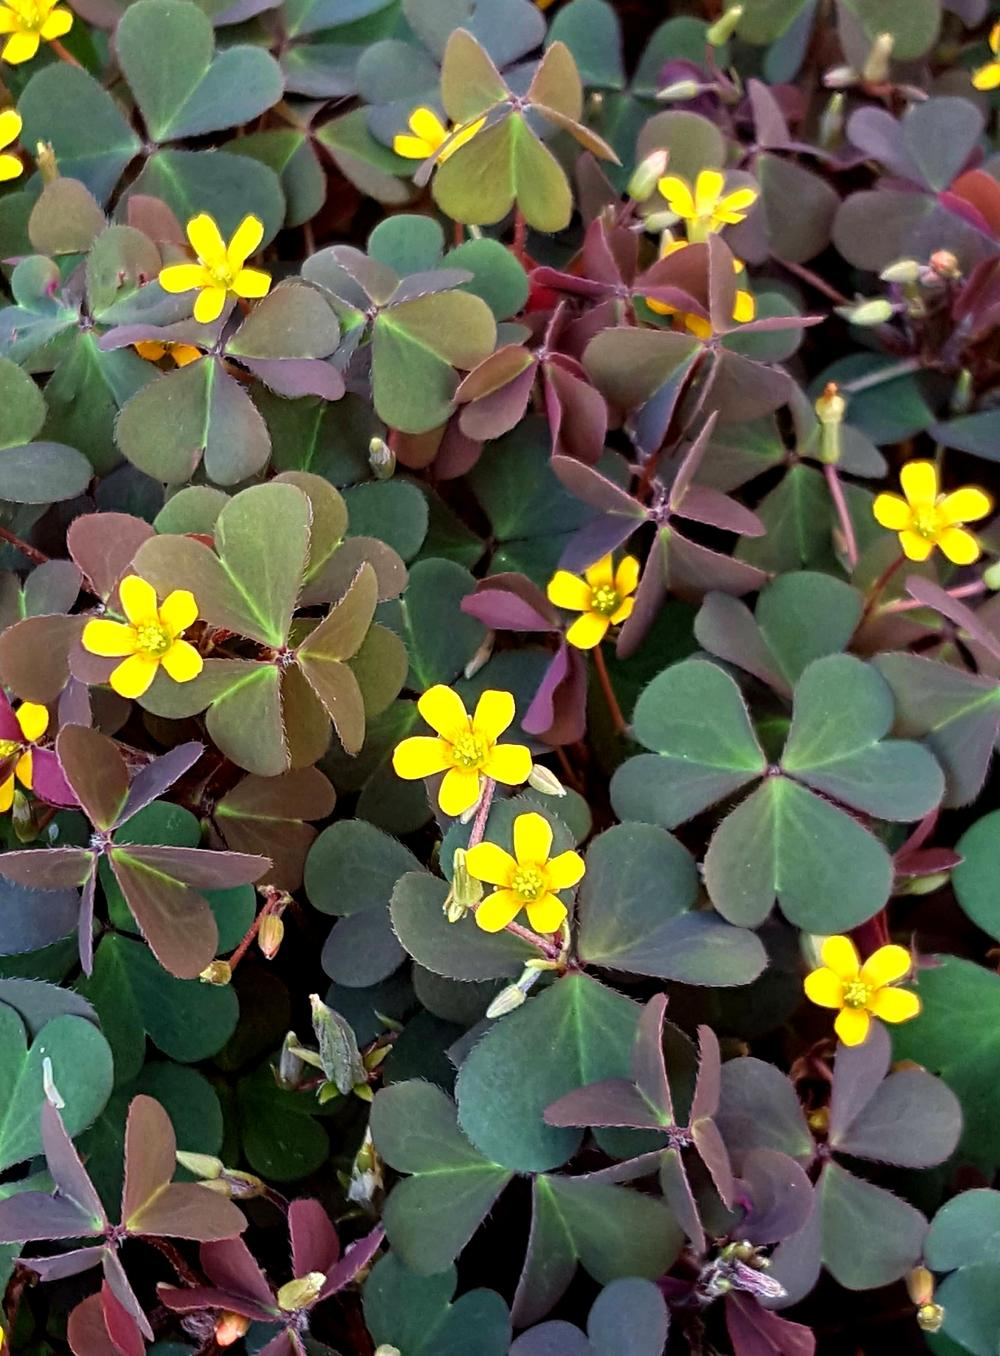oxalis: (44, 83, 989, 1356)
